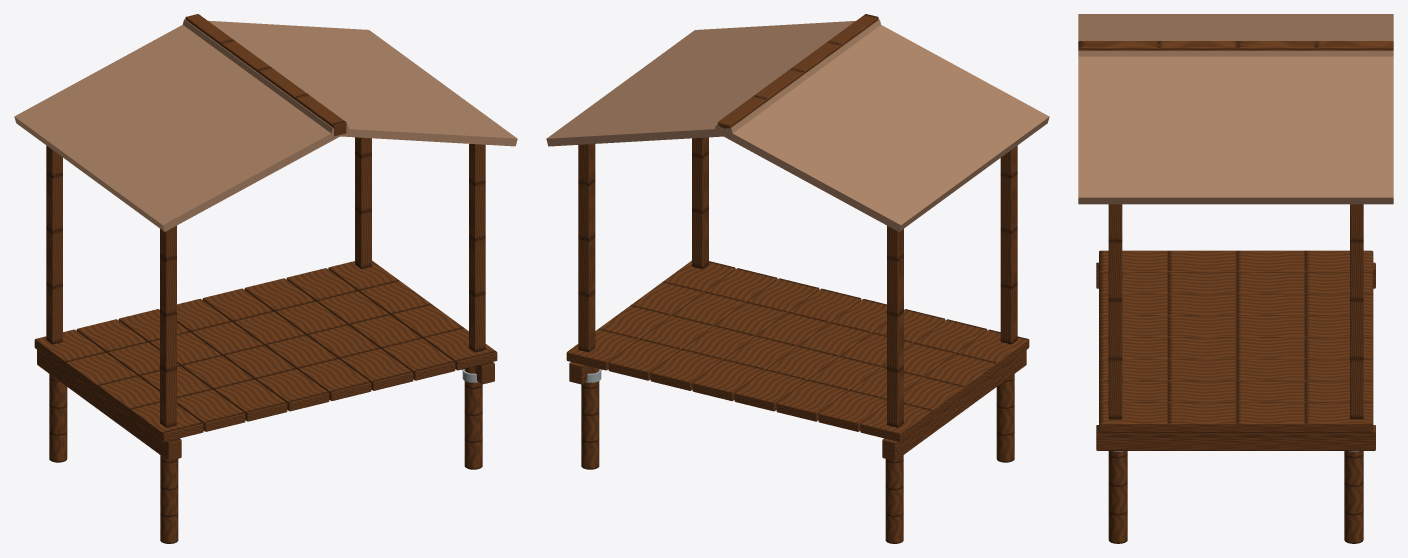
The model's file is flooded-and-coastal-survival-landing-canopy-7f18dfc6__20053.glb.
The picture shows the model from 3 angles, left to right: view 1: azimuth 30°, elevation 25°; view 2: azimuth 150°, elevation 25°; view 3: azimuth 270°, elevation 25°; orthographic projection. The views are drawn at different scales.
Visible parts, largest first — view 1: landing-canopy; view 2: landing-canopy; view 3: landing-canopy.
Part boxes in pixels (x1,y1,x2,y2): landing-canopy: (14, 14, 517, 543); landing-canopy: (546, 14, 1049, 543); landing-canopy: (1078, 14, 1393, 543).
Size of the model in its own units: 3.17 by 3.36 by 2.3.
Materials: 3 (1 with a texture image).
